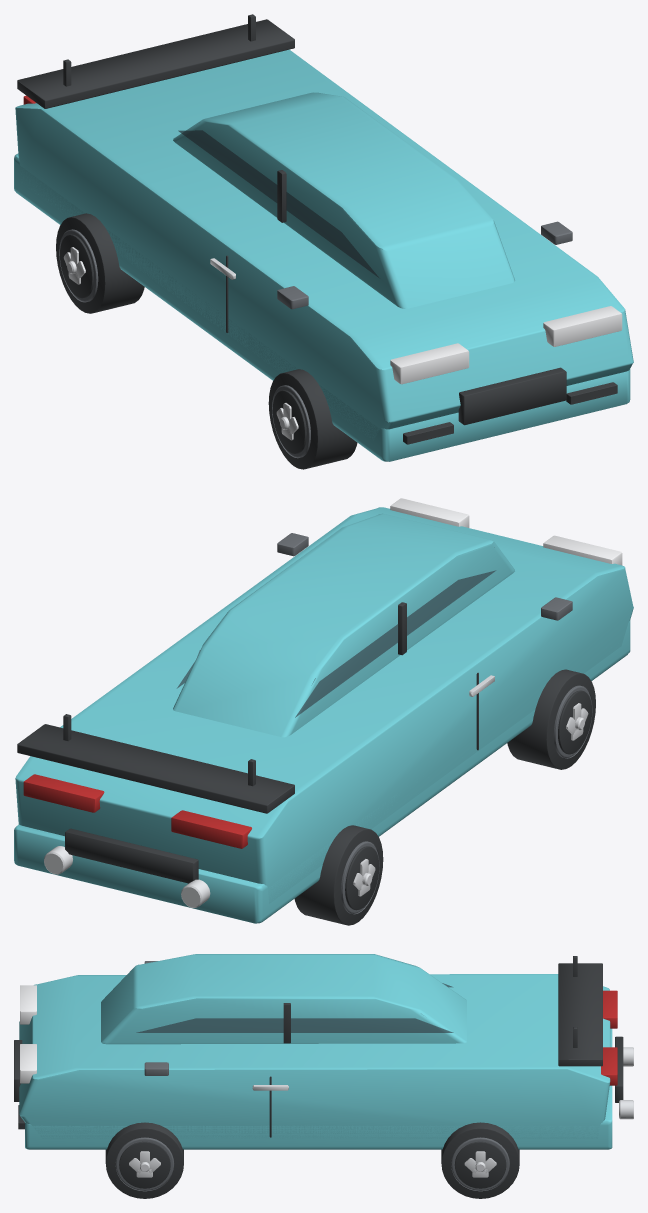
Rendered from ghostline-tuner.glb.
3 views of the same model, one above another, from view 1: azimuth 30°, elevation 25°; view 2: azimuth 150°, elevation 25°; view 3: azimuth 270°, elevation 25° (orthographic). The views are drawn at different scales.
Parts seen in each view (by area): view 1: paint, trim, head, glass, accent, rim; view 2: paint, trim, tail, glass, rim, head, accent; view 3: paint, trim, glass, rim, accent, head, tail.
Boxes of the visible parts, bbox=[...] form: paint: bbox=[14, 49, 633, 461]; trim: bbox=[17, 14, 617, 469]; head: bbox=[390, 306, 622, 384]; glass: bbox=[178, 130, 378, 277]; accent: bbox=[59, 221, 572, 458]; rim: bbox=[63, 247, 298, 440]; paint: bbox=[14, 507, 633, 923]; trim: bbox=[17, 602, 595, 925]; tail: bbox=[23, 774, 251, 848]; glass: bbox=[177, 570, 495, 717]; rim: bbox=[44, 675, 588, 907]; head: bbox=[390, 498, 622, 565]; accent: bbox=[277, 533, 592, 914]; paint: bbox=[19, 954, 612, 1149]; trim: bbox=[14, 956, 623, 1198]; glass: bbox=[136, 983, 453, 1032]; rim: bbox=[129, 1047, 633, 1177]; accent: bbox=[115, 961, 509, 1191]; head: bbox=[20, 985, 36, 1083]; tail: bbox=[601, 990, 617, 1085].
Bounding box in the file's own units: 2.03 × 1.39 × 4.59.
